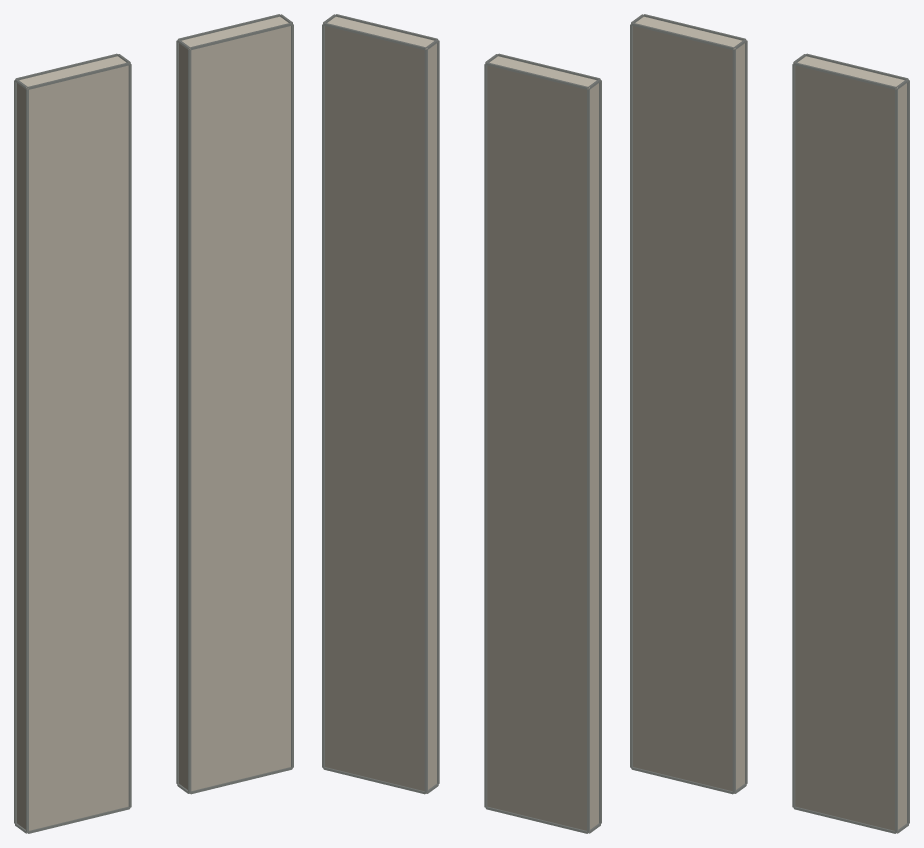
Rendered from modell.glb.
3 renders of one model, left to right at view 1: azimuth 30°, elevation 25°; view 2: azimuth 150°, elevation 25°; view 3: azimuth 330°, elevation 25°, orthographic.
Visible parts, largest first — view 1: 2026 068 R3; view 2: 2026 068 R3; view 3: 2026 068 R3.
Boxes of the visible parts, x1,y1,x2,y2 form: 2026 068 R3: (14, 14, 293, 833); 2026 068 R3: (322, 14, 601, 833); 2026 068 R3: (630, 14, 909, 833).
Bounding box in the file's own units: 263 × 703 × 22.13.
